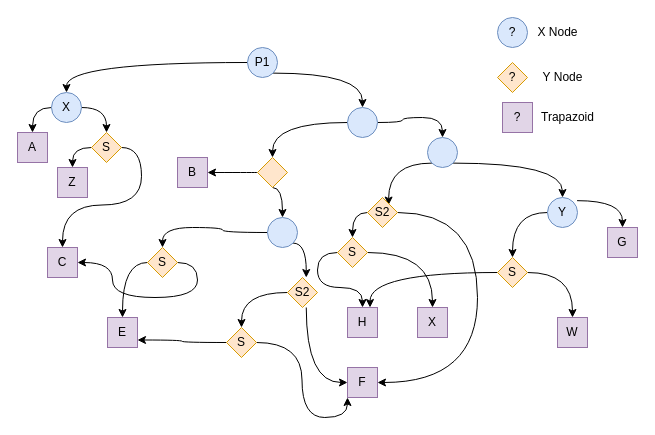
Some shapes in this 655 by 435 pixel diagram are drawn without their labels. The centre of each missing label's shape, as x and y in pixels:
"P2" belongs at point 282,232.
"Q1" belongs at point 362,122.
"Q2" belongs at point 442,152.
"S1" belongs at point 272,172.
